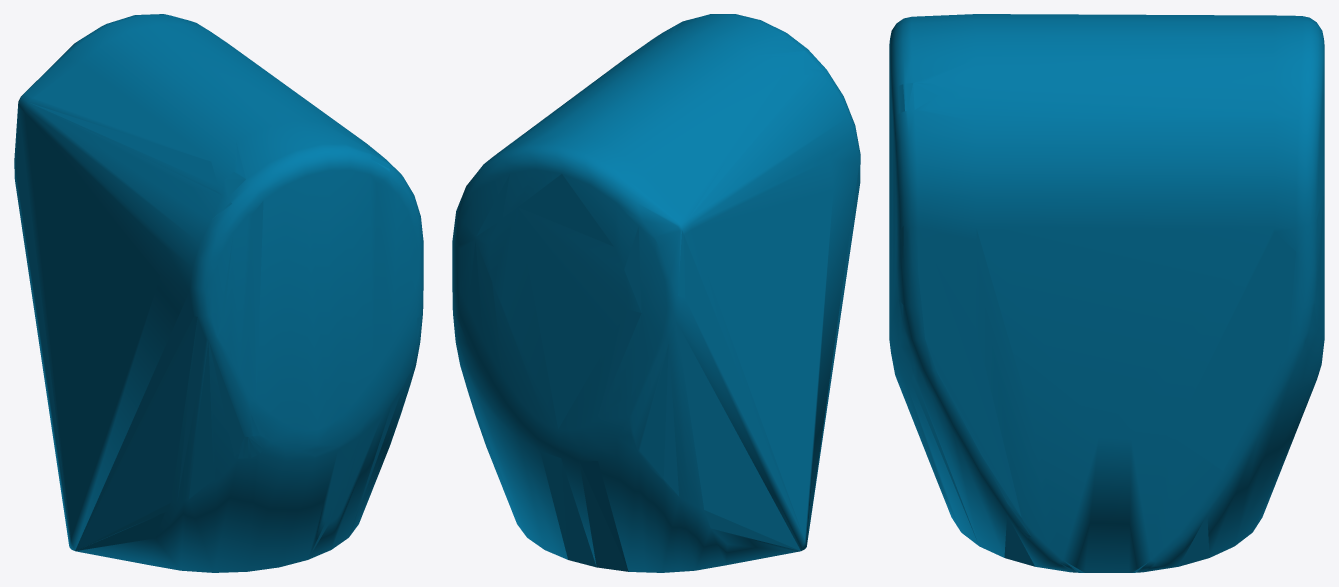
The picture shows the model from 3 angles, left to right: view 1: azimuth 30°, elevation 25°; view 2: azimuth 150°, elevation 25°; view 3: azimuth 270°, elevation 25°; orthographic projection. The views are drawn at different scales.
Visible parts, largest first — view 1: gp4_link_1_s; view 2: gp4_link_1_s; view 3: gp4_link_1_s.
Part boxes in pixels (x1,y1,x2,y2): gp4_link_1_s: [14, 14, 423, 572]; gp4_link_1_s: [452, 14, 860, 572]; gp4_link_1_s: [889, 14, 1324, 572].
Size of the model in its own units: 0.1504 by 0.19 by 0.2305.
